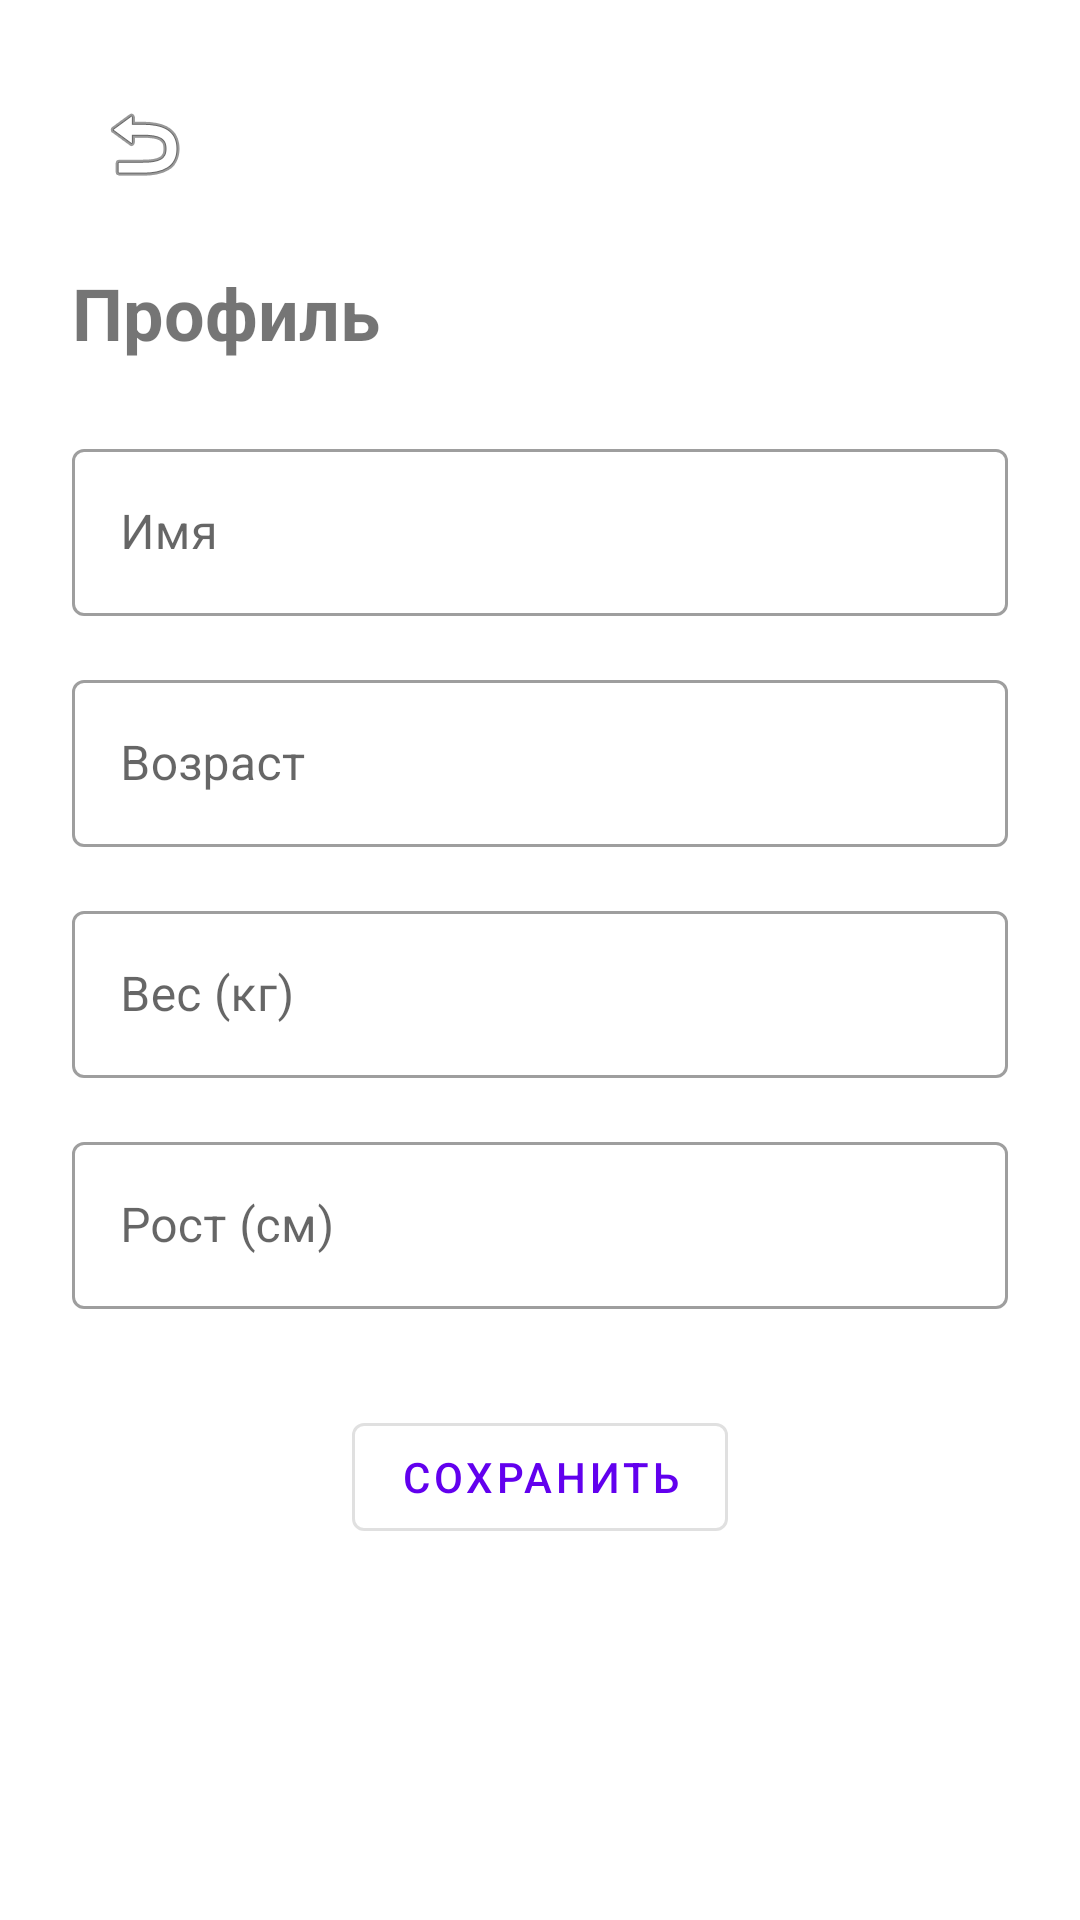

Icons on this 1080 x 1920 Android screen, each with the point to tap as point (x, y):
Назад: point (145, 144)
